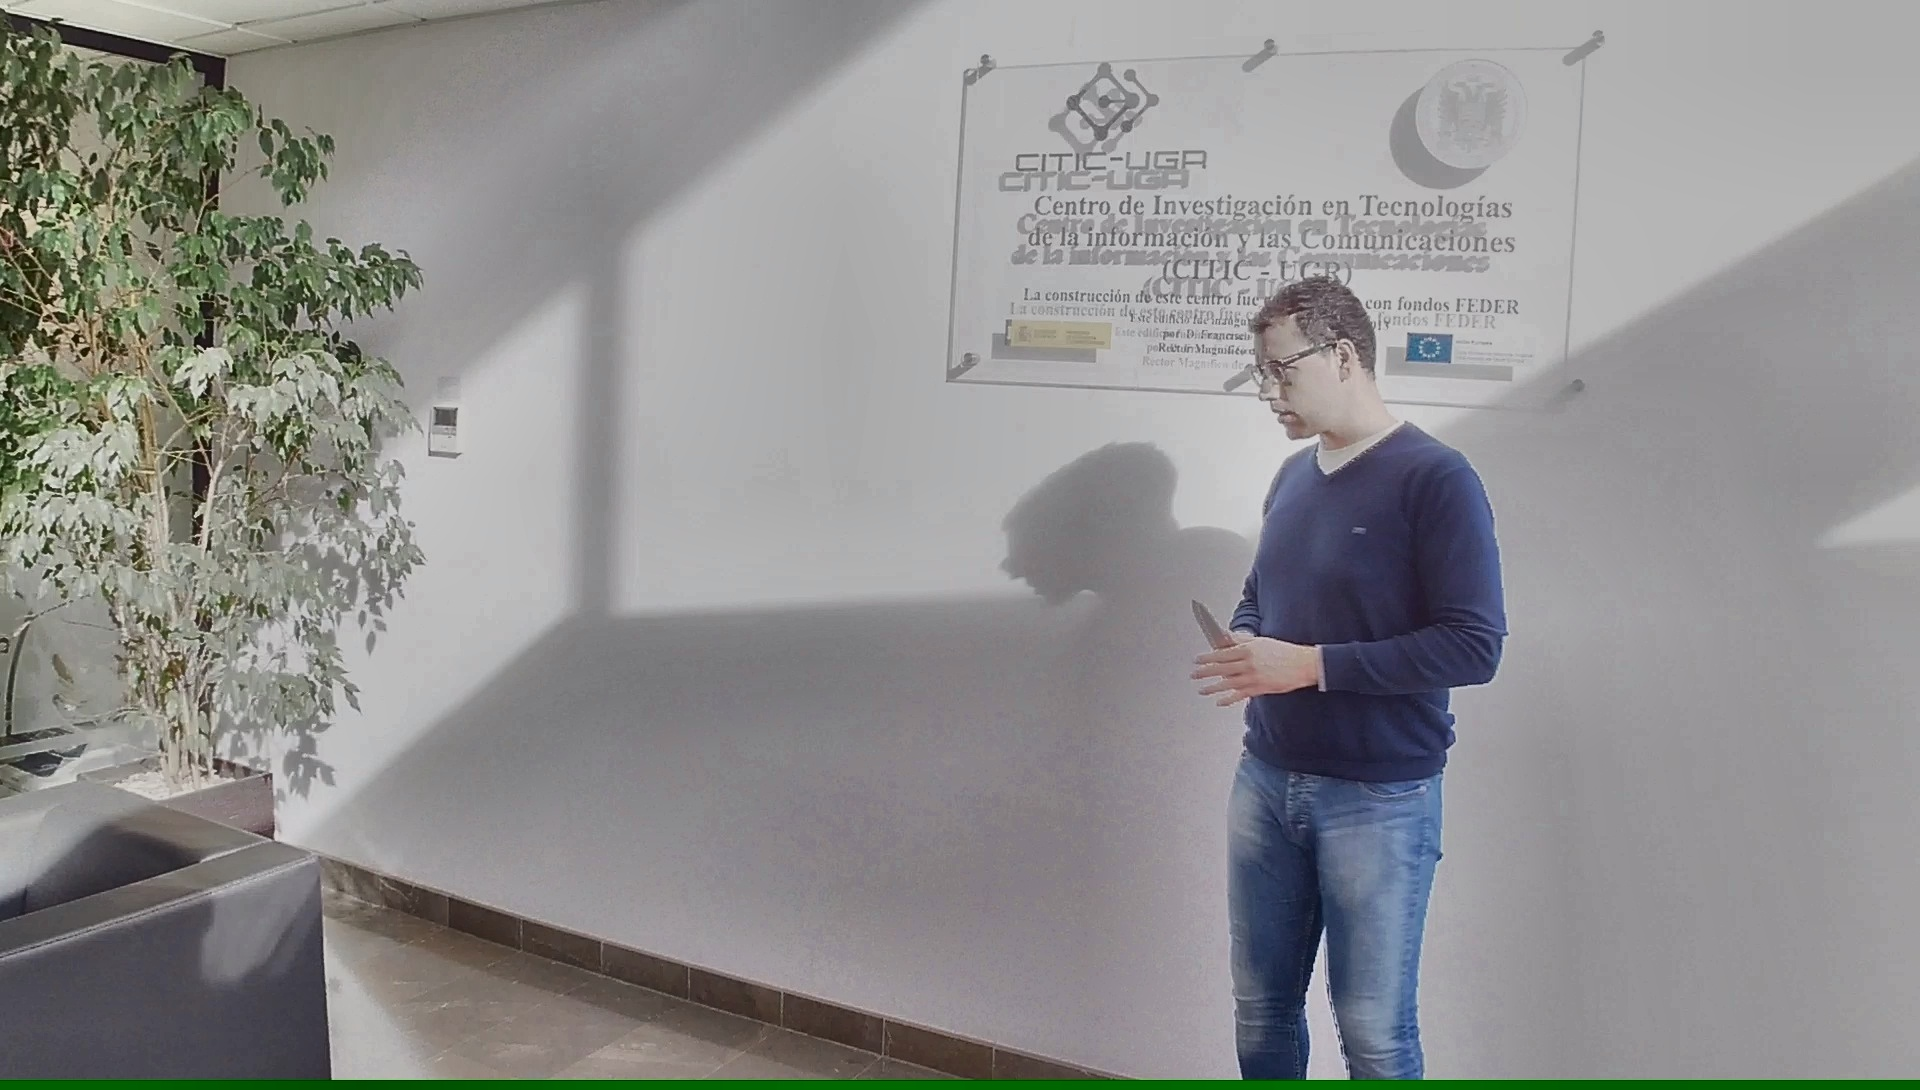knife: (1183, 588, 1251, 681)
